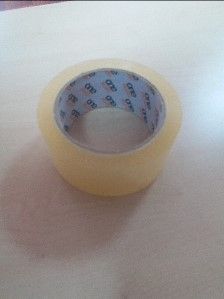band: (31, 58, 182, 203)
